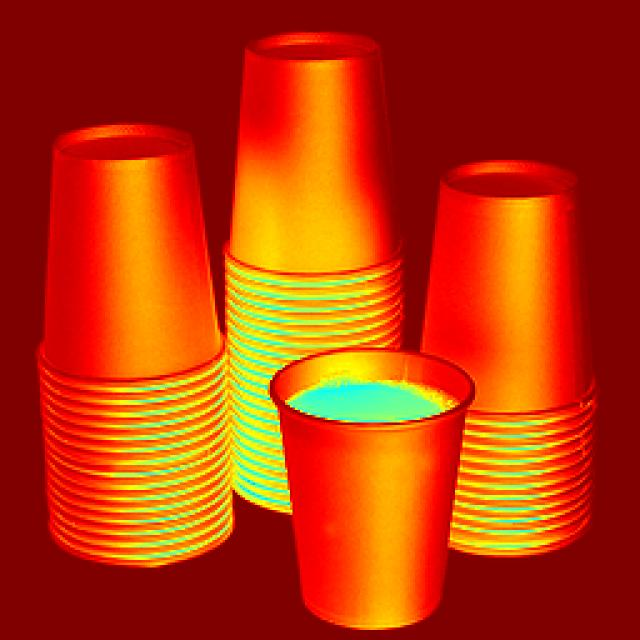Paper Cups: (47, 128, 248, 564), (276, 304, 480, 637), (436, 171, 593, 529), (219, 28, 397, 340)
